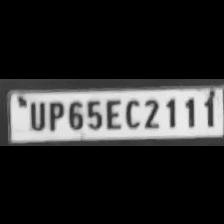1: (198, 93, 218, 127), (161, 94, 179, 128), (180, 94, 198, 128)
2: (141, 96, 161, 128)
5: (84, 96, 104, 130)
6: (64, 98, 84, 130)
C: (122, 95, 140, 127)
E: (104, 96, 120, 128)
P: (46, 98, 64, 130)
U: (24, 98, 46, 130), (34, 98, 54, 130)
